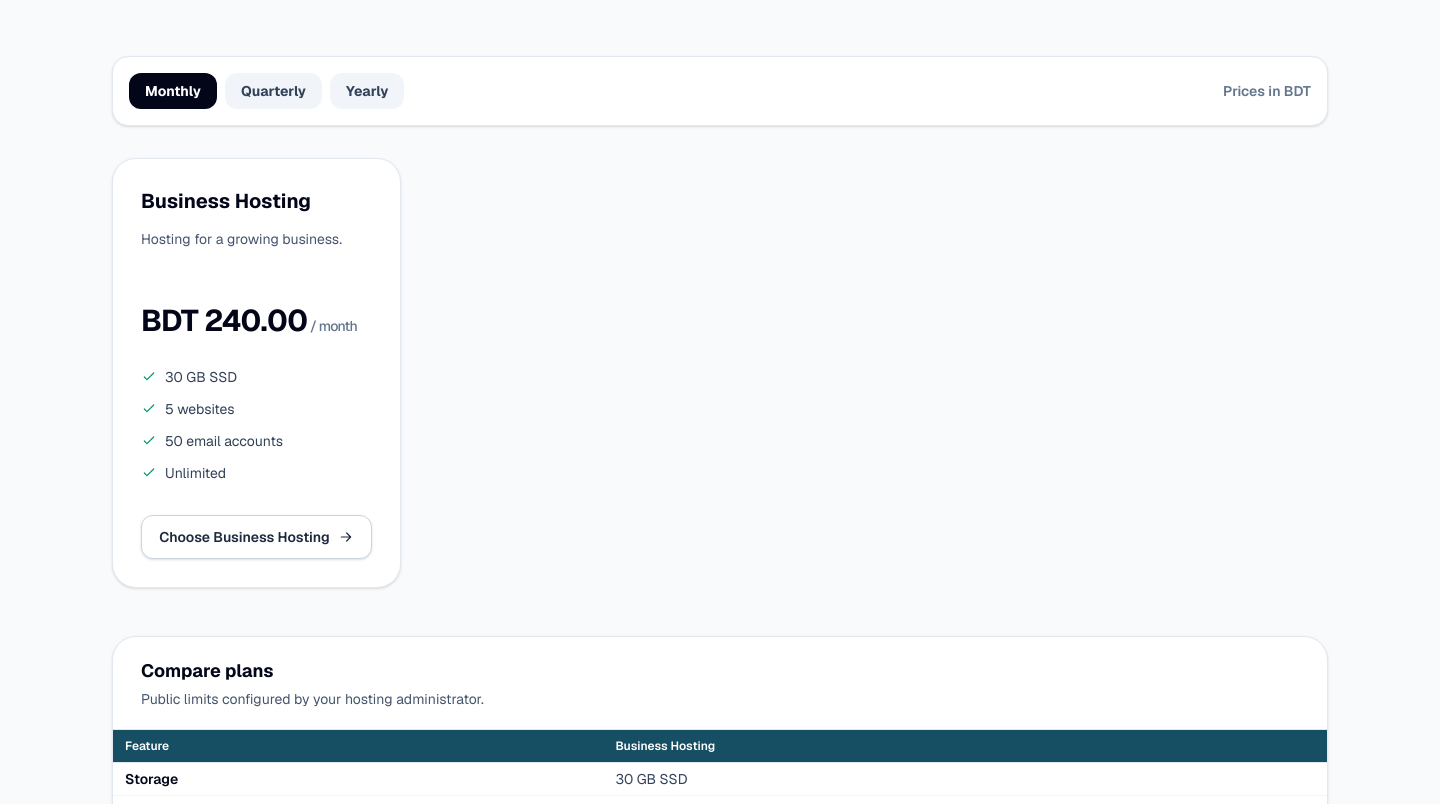
Test: product and pricing interfaces › compares periods and carries the selected product and price to checkout
This screenshot has width=1440, height=804.
Expected: the text "BDT 240.00" is shown, [141,301,307,340]
Click the button "Quarterly" at (274, 91), box [225,73,322,109]
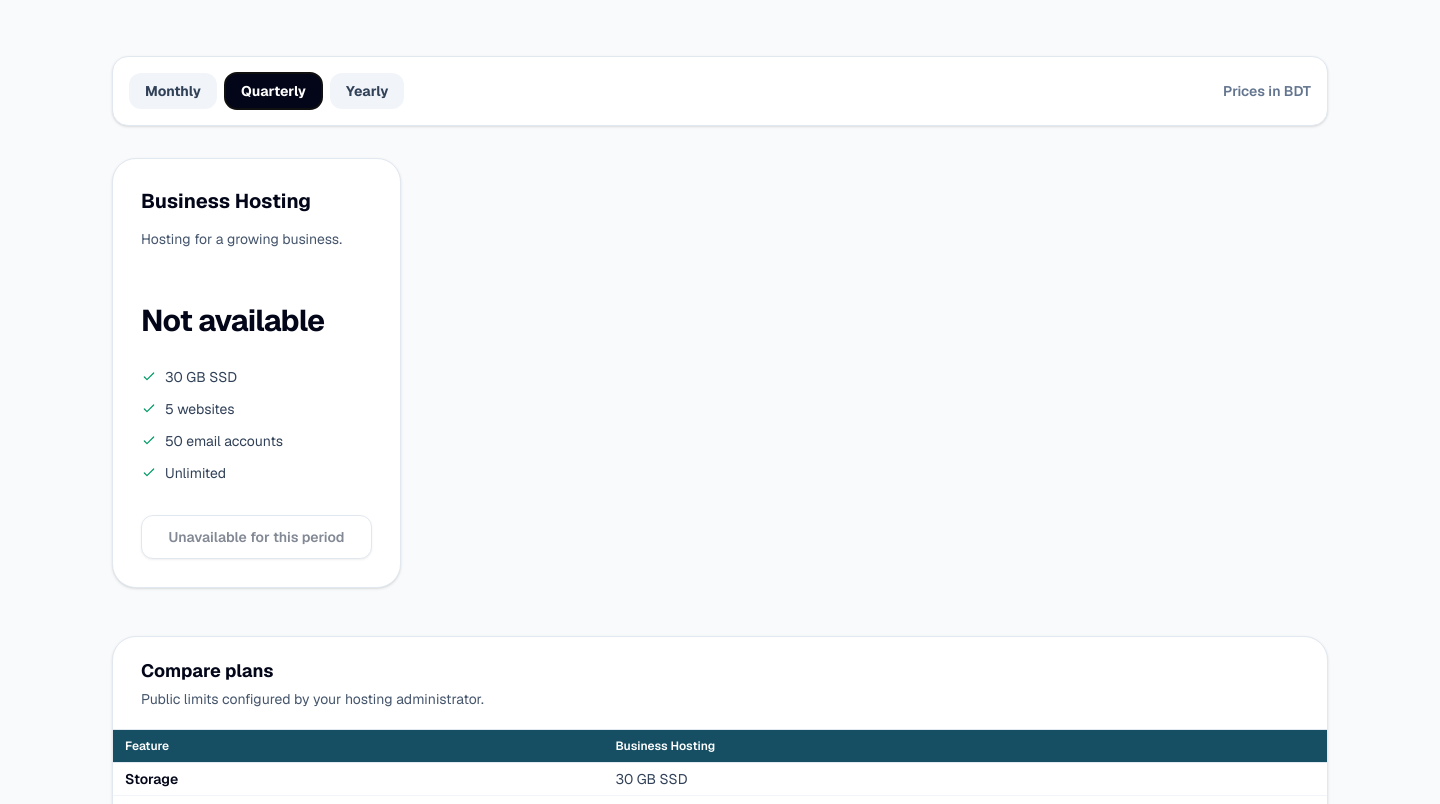
Now the text "Not available" is shown, box [141,301,324,340]
Now the button "Unavailable for this period" is disabled, box [141,515,372,559]
Click the button "Yearly" at (367, 91), box [330,73,404,109]
(page scrolled)
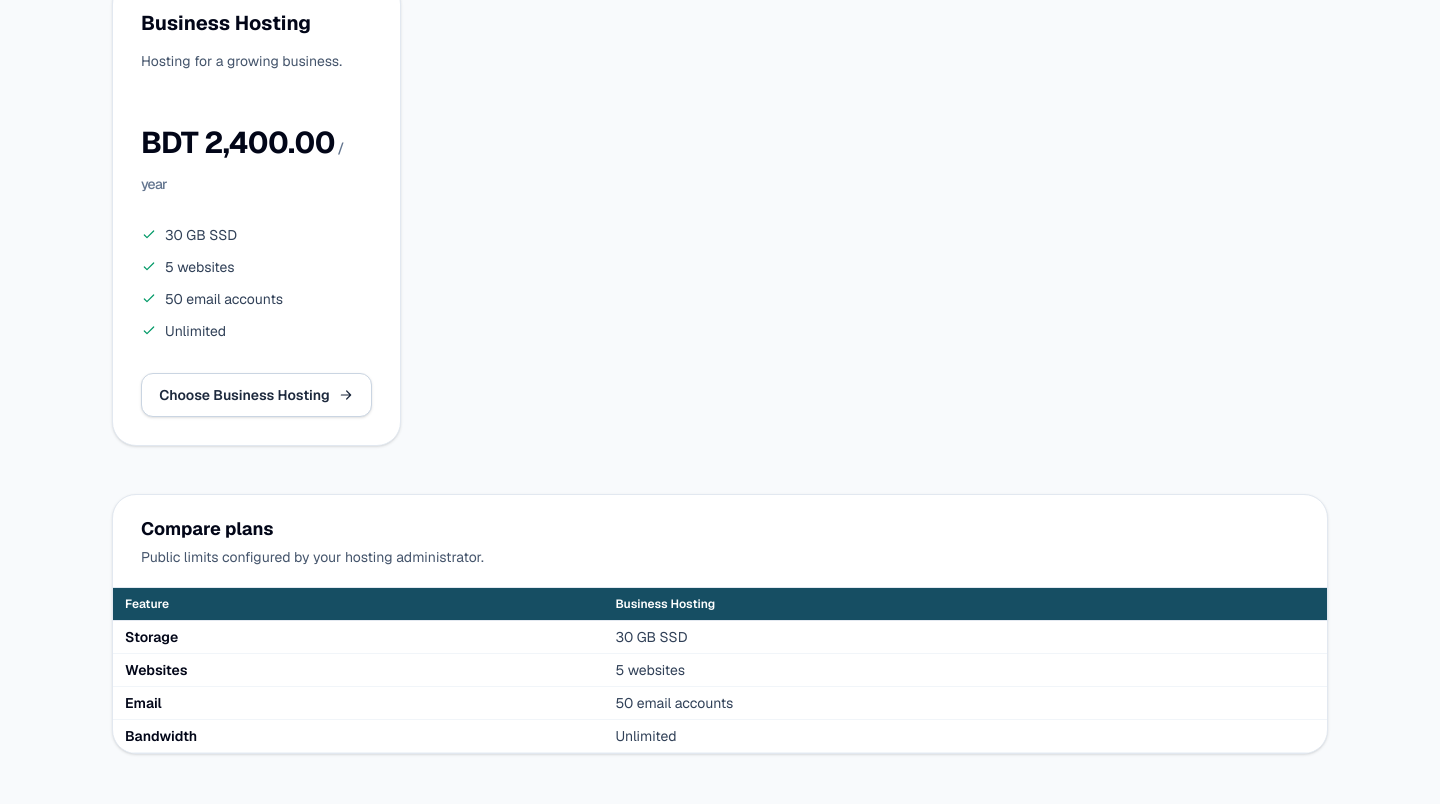
Expected: the table named "Comparison of active hosting plans" is shown, [113,588,1327,753]
Now the text "BDT 2,400.00" is shown, box [141,123,335,162]
